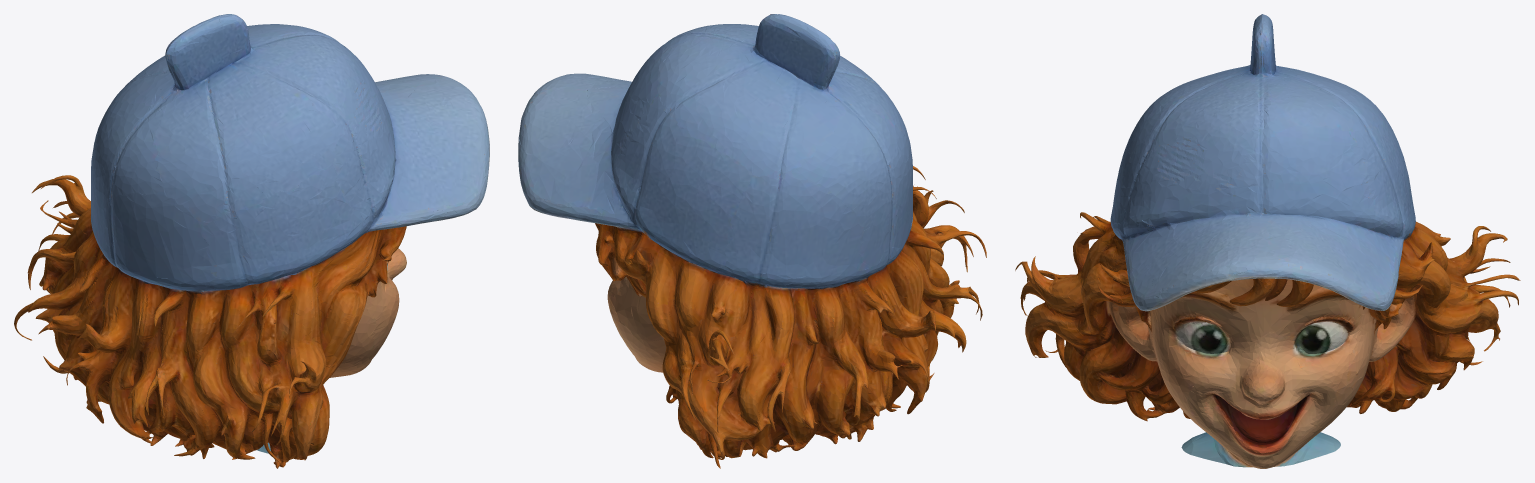
The model's file is jenny-head.glb.
3 views of the same model, side by side, from view 1: azimuth 30°, elevation 25°; view 2: azimuth 150°, elevation 25°; view 3: azimuth 270°, elevation 25° (orthographic).
Visible parts, largest first — view 1: tripo_node_40528e12-da02-42aa-9448-79df5bef444f; view 2: tripo_node_40528e12-da02-42aa-9448-79df5bef444f; view 3: tripo_node_40528e12-da02-42aa-9448-79df5bef444f.
Part boxes in pixels (box(x1,y1,x2,y2)): tripo_node_40528e12-da02-42aa-9448-79df5bef444f: box(14, 14, 489, 468); tripo_node_40528e12-da02-42aa-9448-79df5bef444f: box(518, 14, 986, 468); tripo_node_40528e12-da02-42aa-9448-79df5bef444f: box(1015, 14, 1520, 468).
Bounding box in the file's own units: 0.4684 × 0.4678 × 0.5237.
1 material, 1 textured.
